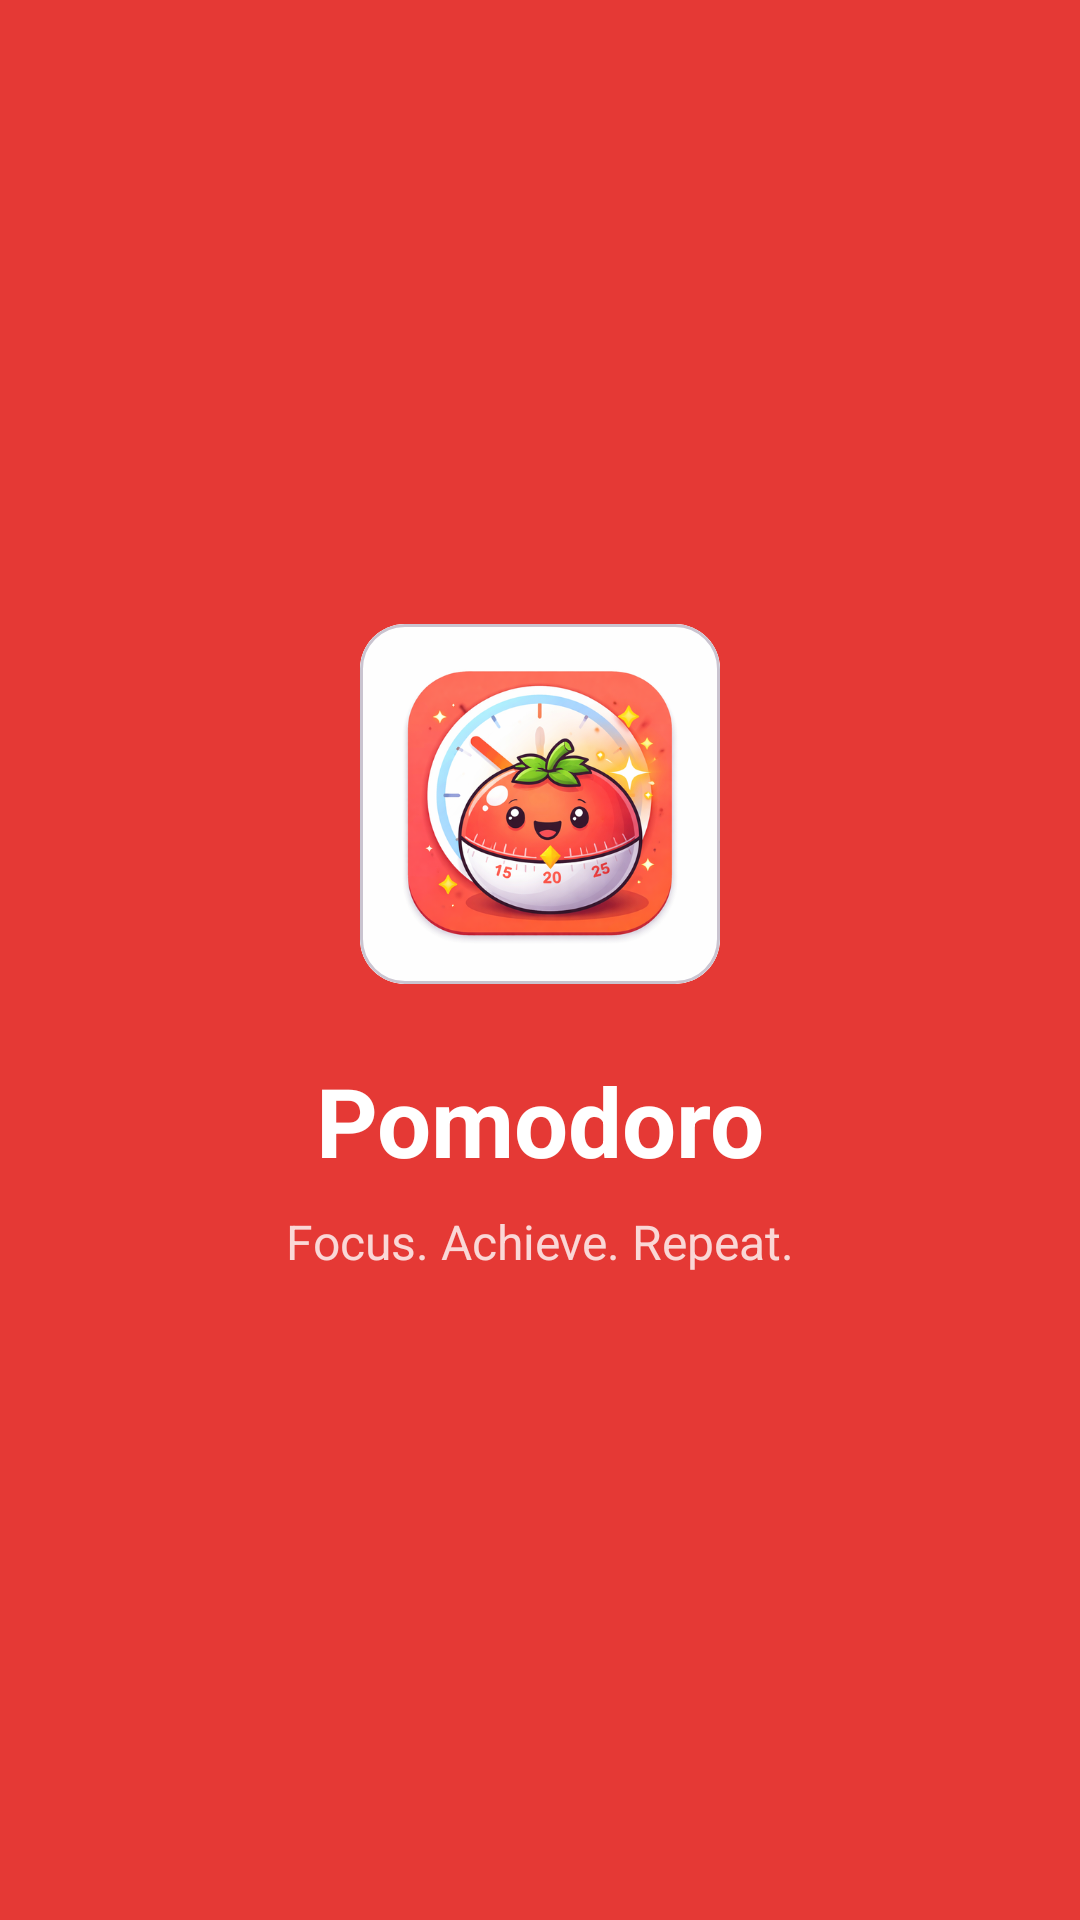

Icons on this 1080*1920 Android screen, each with the point to tap as (x,y):
app: (540,804)
